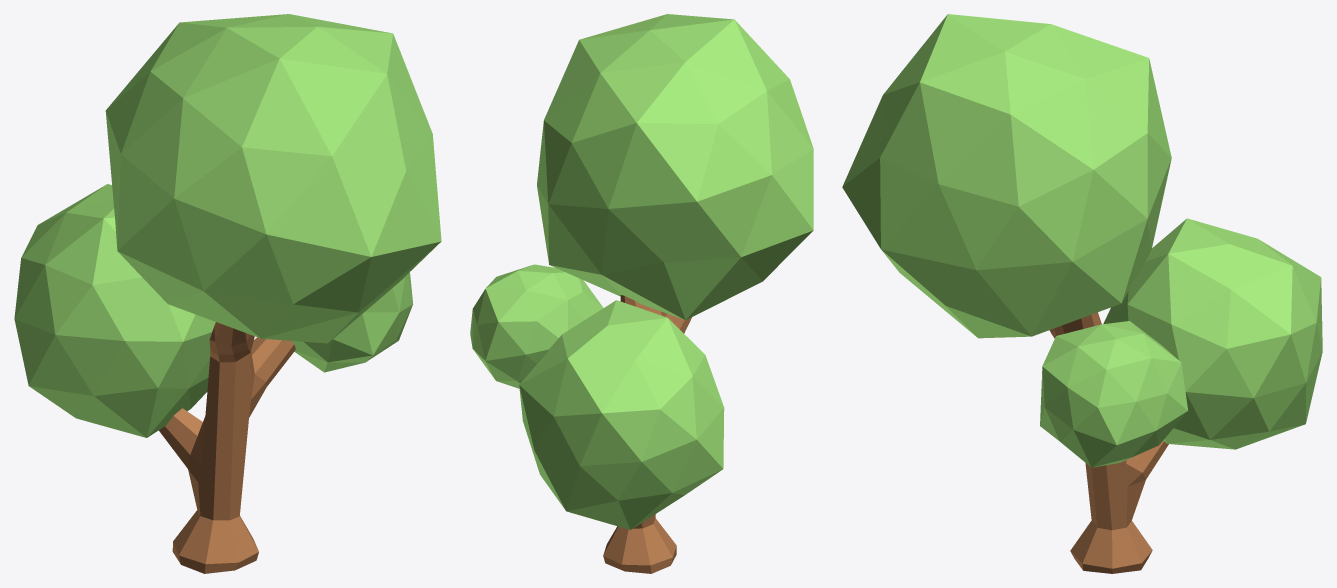
The model's file is Tree5.fbx.
3 views of the same model, side by side, from view 1: azimuth 30°, elevation 25°; view 2: azimuth 150°, elevation 25°; view 3: azimuth 270°, elevation 25° (orthographic). The views are drawn at different scales.
Visible parts, largest first — view 1: Tree5; view 2: Tree5; view 3: Tree5.
Boxes of the visible parts, bbox=[...] form: Tree5: bbox=[14, 14, 441, 573]; Tree5: bbox=[470, 14, 813, 573]; Tree5: bbox=[842, 14, 1322, 573].
Bounding box in the file's own units: 454 × 714 × 582.
